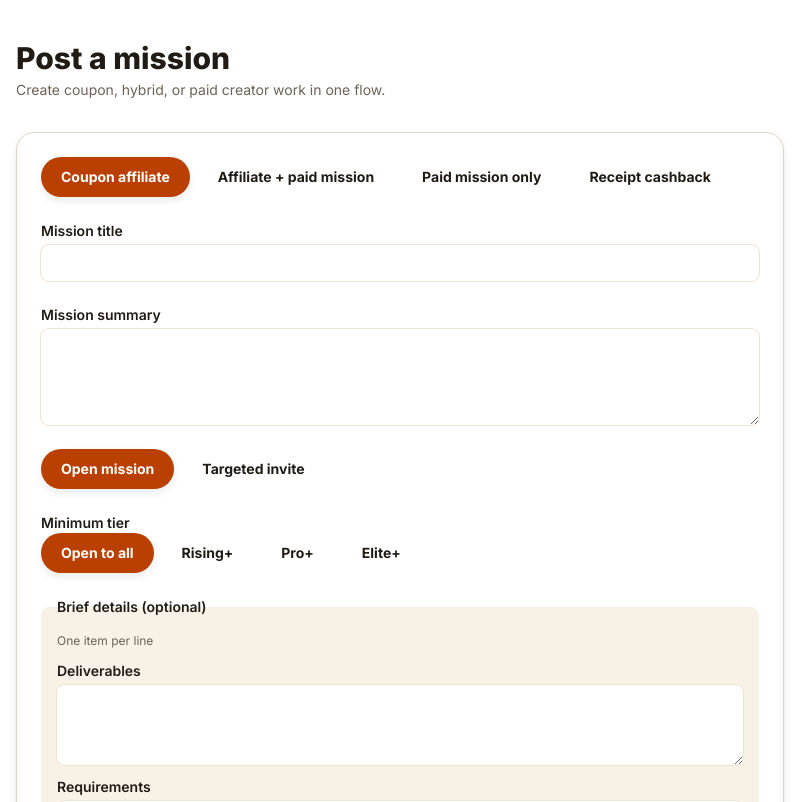
Test: MissionPostWizard › shows server action errors
Type "Test mission" into the field labelled "Mission title".
click(400, 263); type("Test mission")  # box [41, 245, 759, 281]
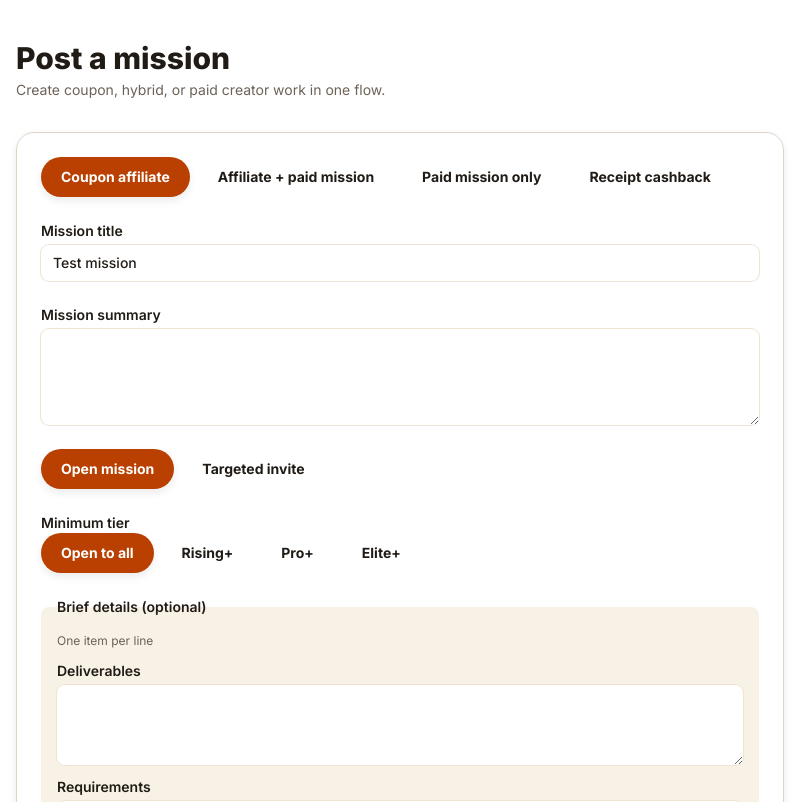
Type "Mission summary" into the text box labelled "Mission summary".
click(400, 377); type("Mission summary")  # box [41, 329, 759, 425]
(page scrolled)
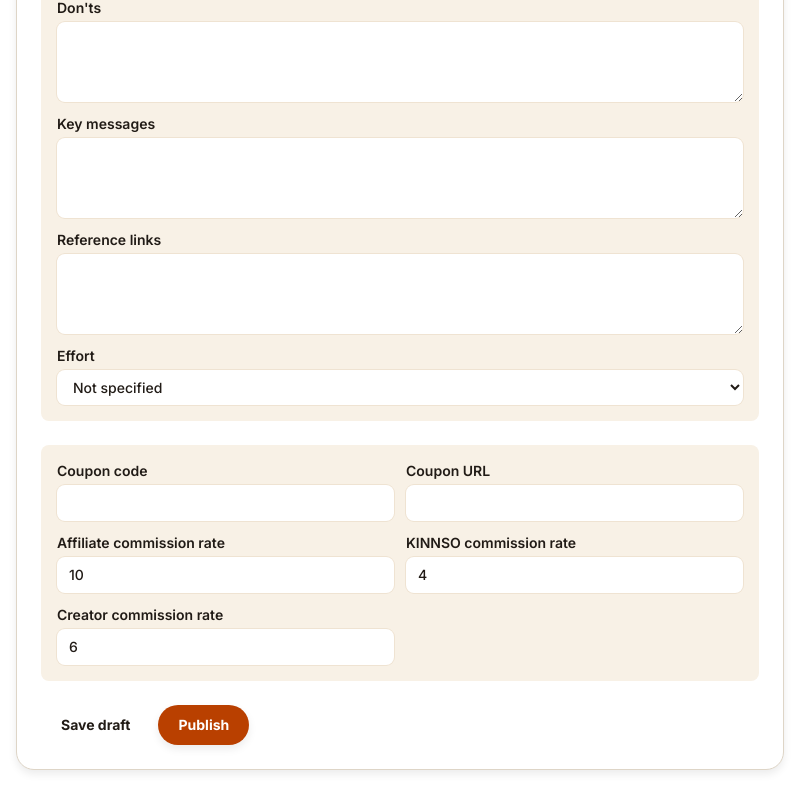
Type "TEST10" into the field labelled "Coupon code".
click(226, 503); type("TEST10")  # box [57, 485, 394, 521]
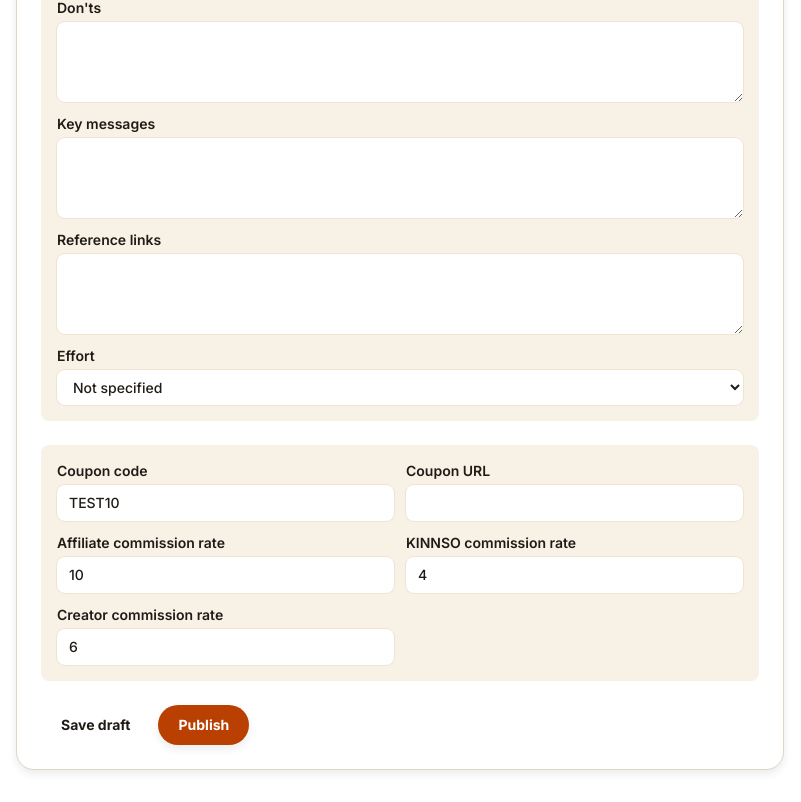
Type "https://example.com/test" into the field labelled "Coupon URL".
click(574, 503); type("https://example.com/test")  # box [406, 485, 743, 521]
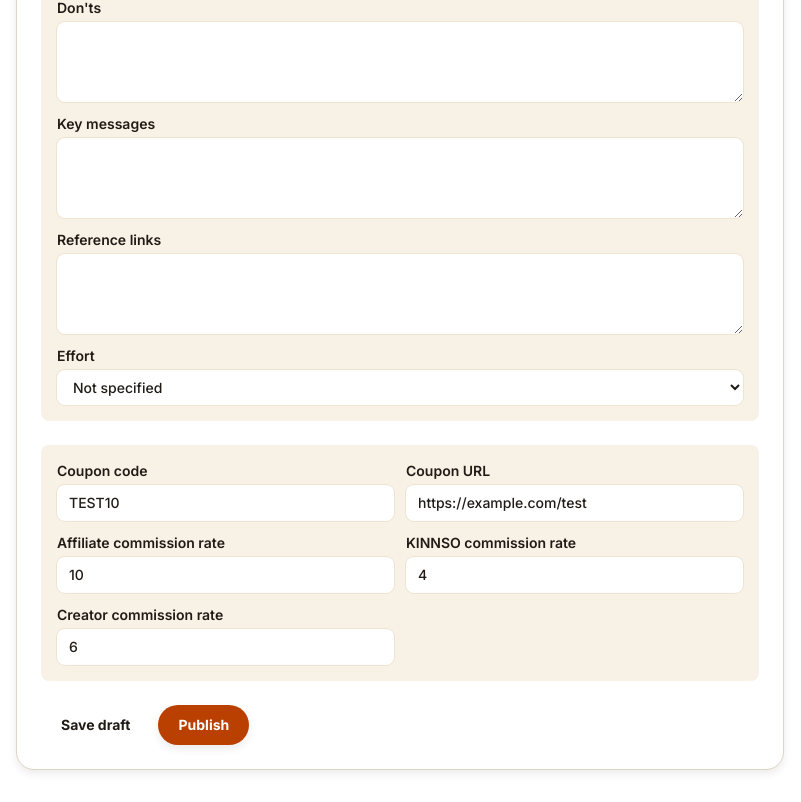
Click the button "Save draft".
click(96, 725)  # box [41, 705, 150, 745]
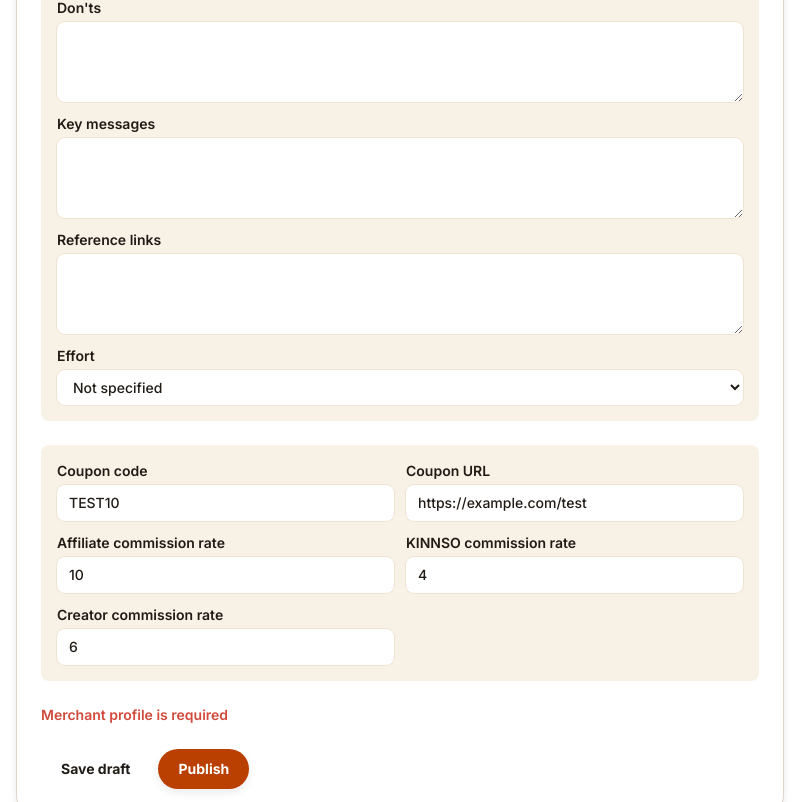
Check: the message reads "Merchant profile is required", box [41, 706, 228, 723]
